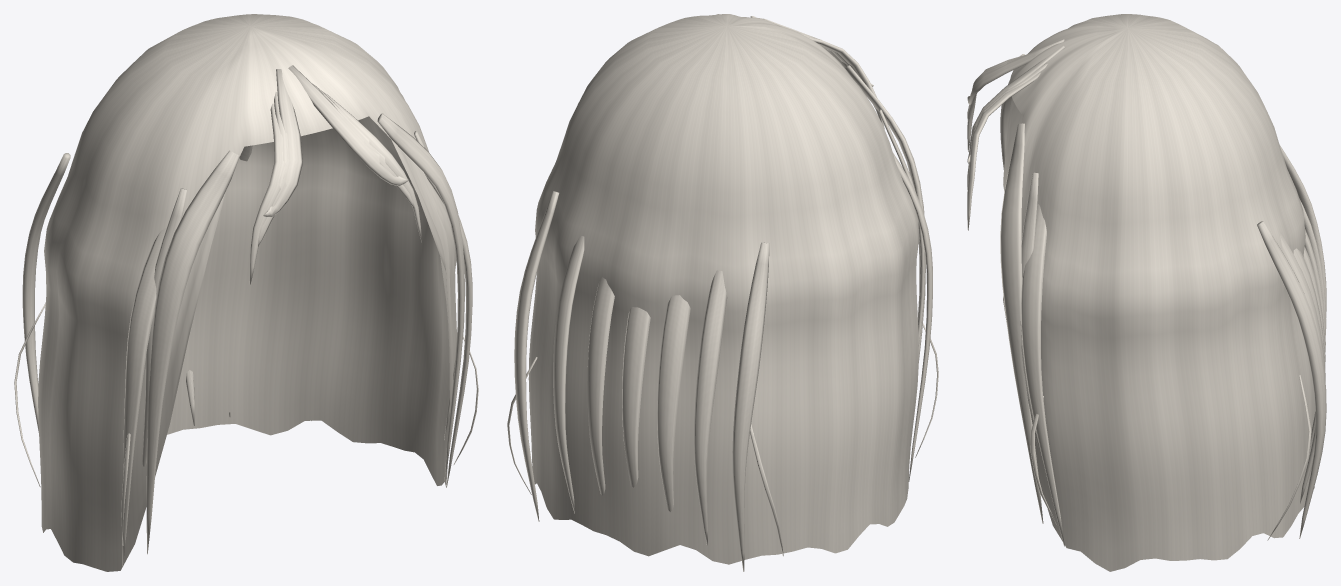
3 renders of one model, left to right at view 1: azimuth 30°, elevation 25°; view 2: azimuth 150°, elevation 25°; view 3: azimuth 270°, elevation 25°, orthographic. The views are drawn at different scales.
Parts seen in each view (by area): view 1: Portrait hair c; view 2: Portrait hair c; view 3: Portrait hair c.
Part boxes in pixels (box(x1,y1,x2,y2)): Portrait hair c: box(14, 14, 478, 571); Portrait hair c: box(507, 14, 938, 571); Portrait hair c: box(967, 14, 1326, 571).
Size of the model in its own units: 1.12 by 1.43 by 1.01.
Materials: 1 (1 with a texture image).
